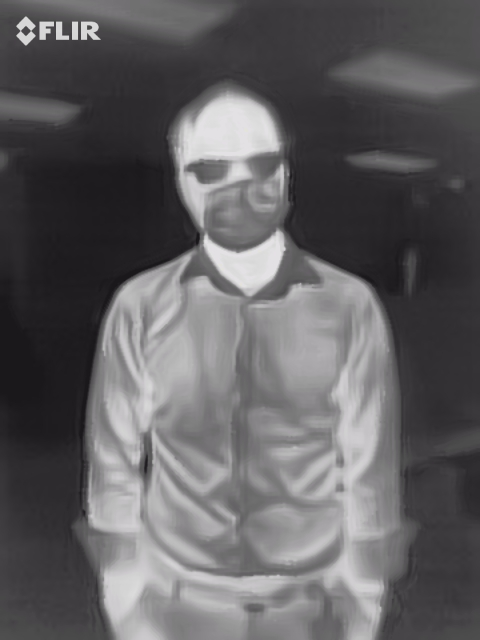head: (167, 80, 291, 252)
